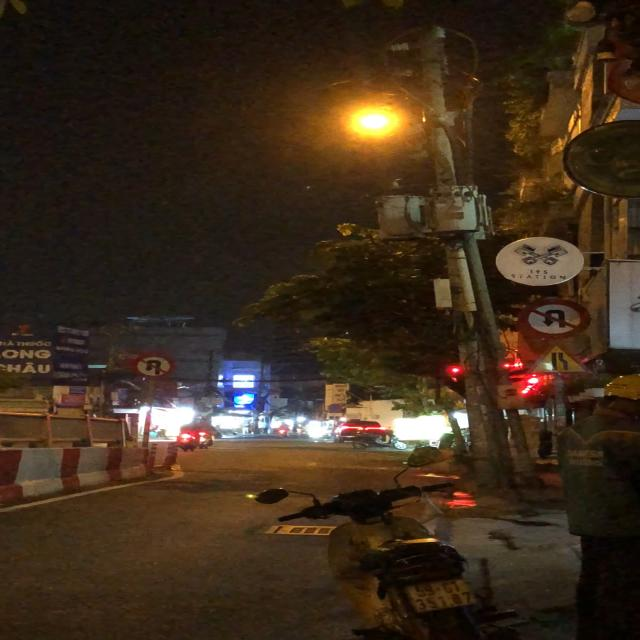Bien bao cam quay dau xe: (515, 297, 597, 338), (127, 351, 175, 378)
Bien bao duong bi thu hep: (522, 342, 592, 376)
